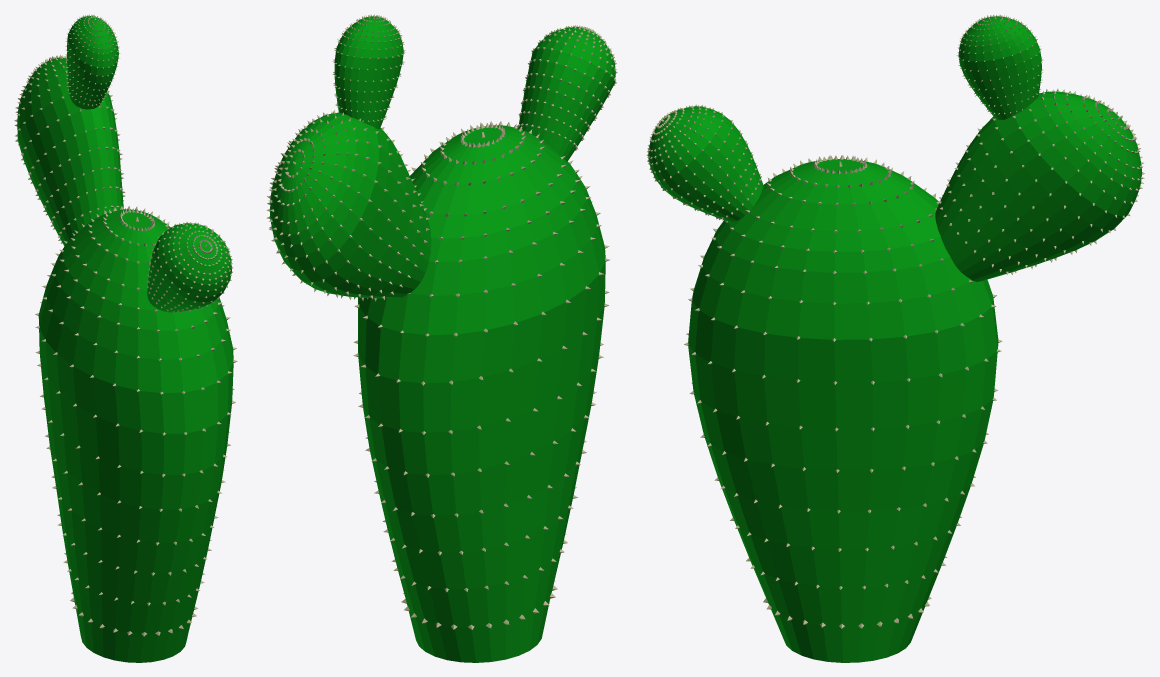
The model's file is cactus var 2.fbx.
3 views of the same model, side by side, from view 1: azimuth 30°, elevation 25°; view 2: azimuth 150°, elevation 25°; view 3: azimuth 270°, elevation 25° (orthographic). The views are drawn at different scales.
Visible parts, largest first — view 1: cactus 2; view 2: cactus 2; view 3: cactus 2.
Part boxes in pixels (bbox=[...]): cactus 2: bbox=[14, 14, 237, 662]; cactus 2: bbox=[266, 14, 617, 662]; cactus 2: bbox=[646, 14, 1144, 662].
Bounding box in the file's own units: 218 × 738 × 524.
